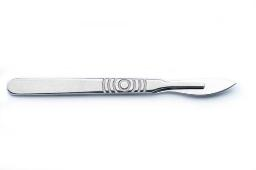scalpel: (6, 76, 238, 98)
